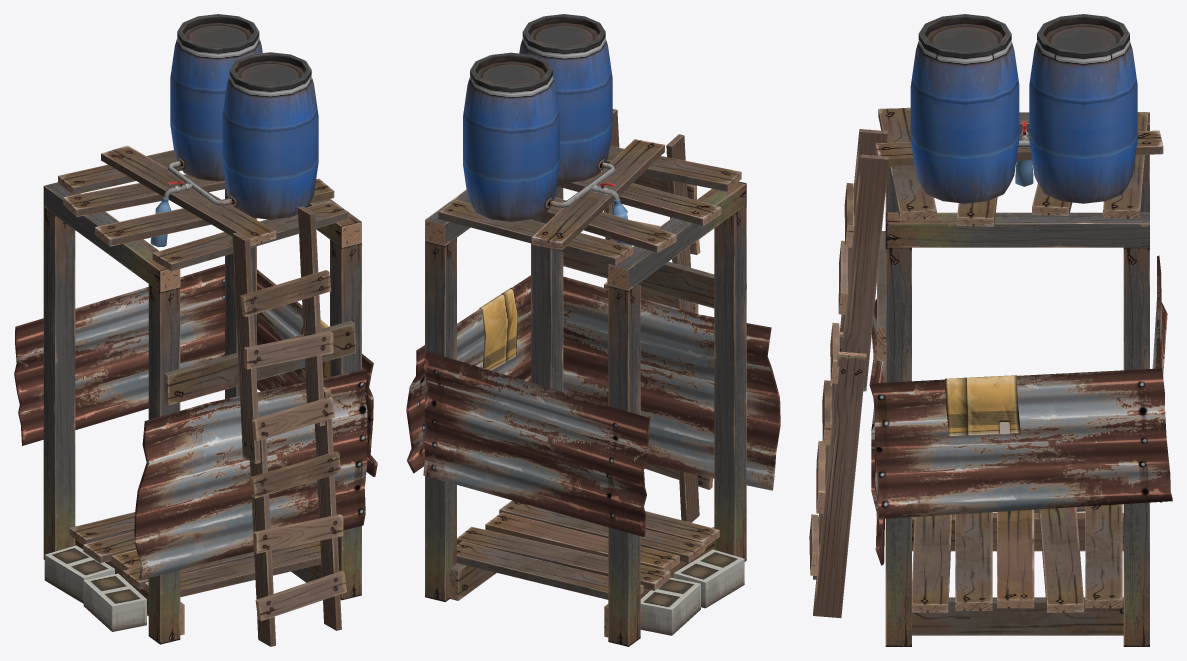
File: shower02.fbx
3 renders of one model, left to right at view 1: azimuth 30°, elevation 25°; view 2: azimuth 150°, elevation 25°; view 3: azimuth 270°, elevation 25°, orthographic. The views are drawn at different scales.
Visible parts, largest first — view 1: shower02; view 2: shower02; view 3: shower02.
Part boxes in pixels (x1,y1,x2,y2): shower02: [14, 14, 377, 646]; shower02: [406, 14, 780, 646]; shower02: [809, 14, 1172, 646].
Size of the model in its own units: 181 by 365 by 206.
